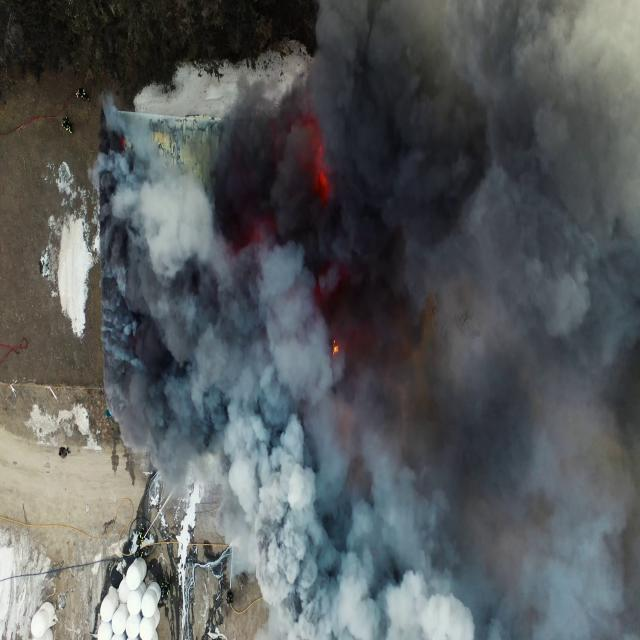Smoke: (98, 1, 640, 594)
